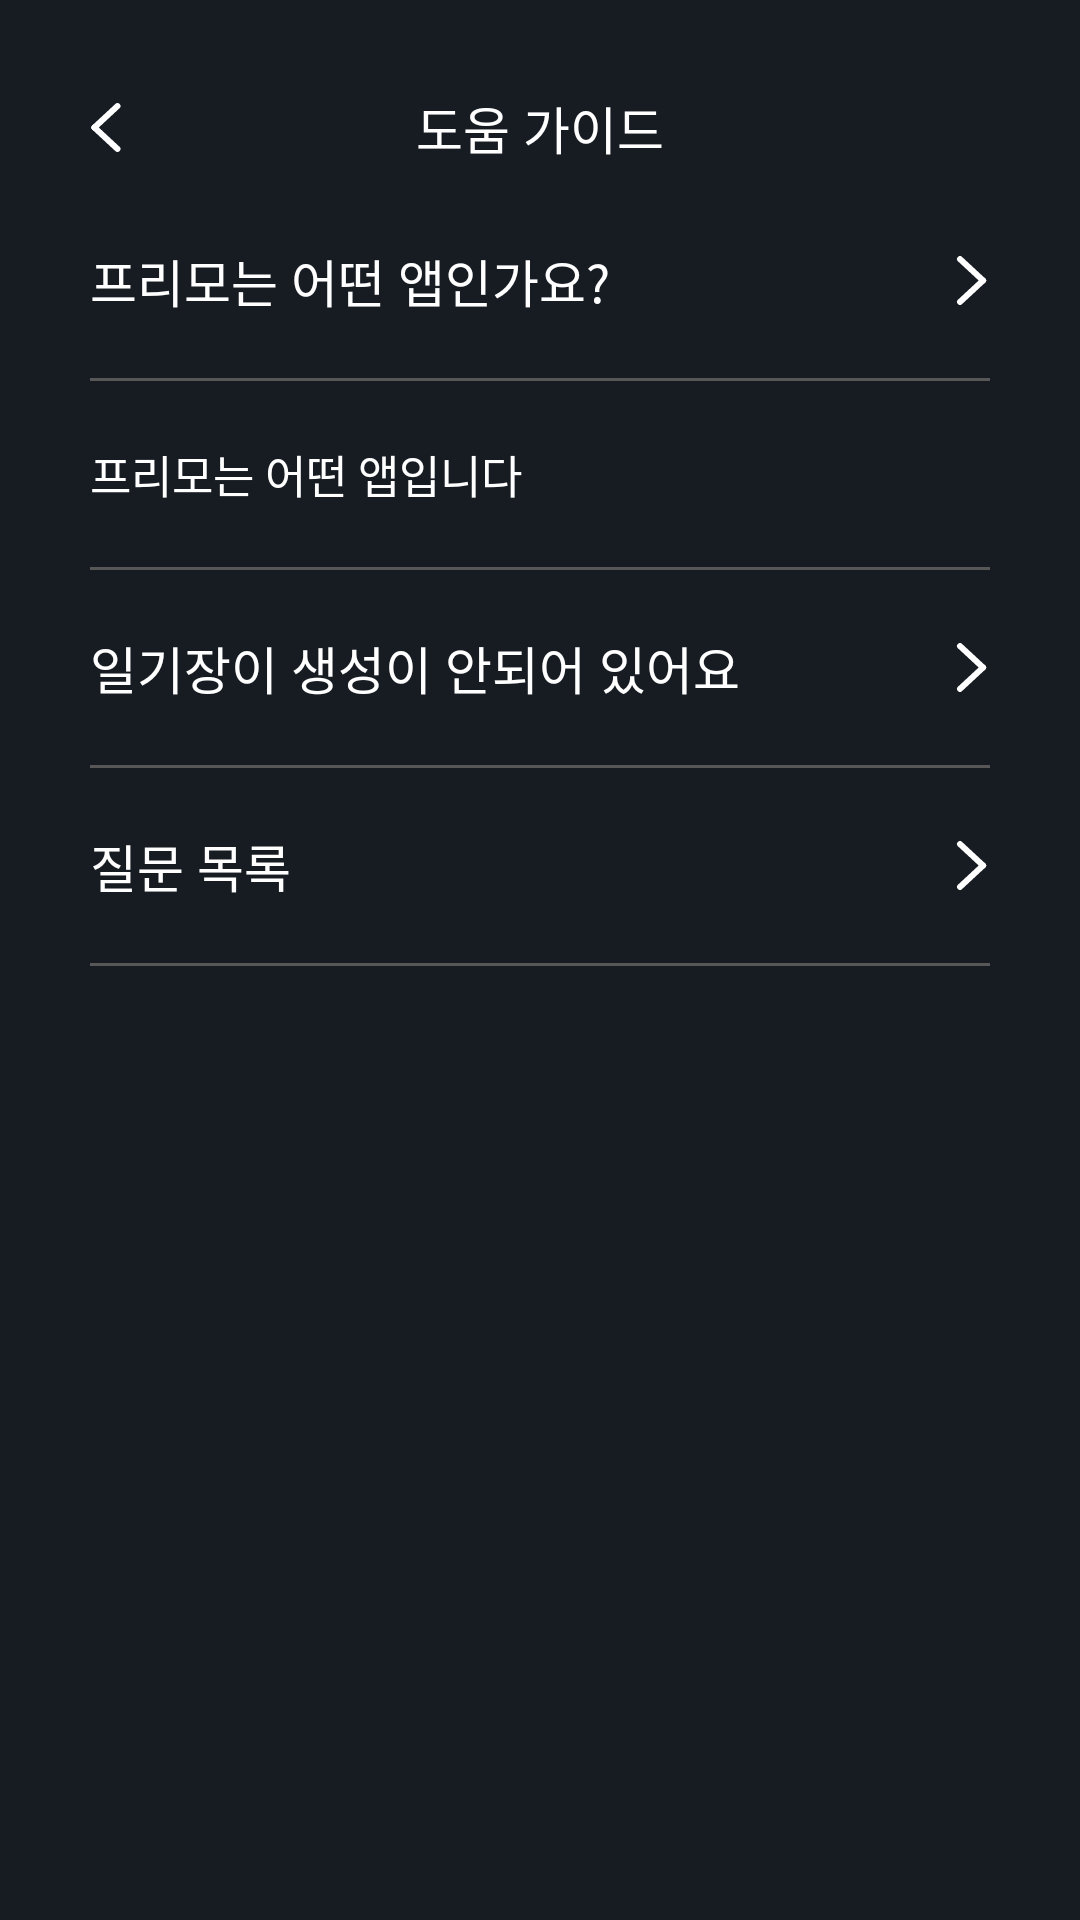

Icon bounding boxes for this 1080×1920 phone screenshot, format (x1, y1, x2, y2):
back: (91, 103, 121, 152)
detail: (957, 256, 987, 305), (957, 643, 987, 692), (957, 841, 987, 890)
